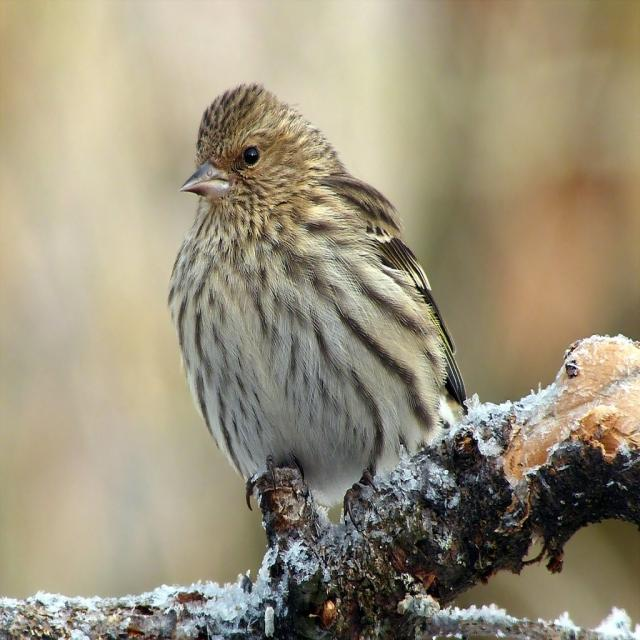bird: (162, 78, 478, 502)
